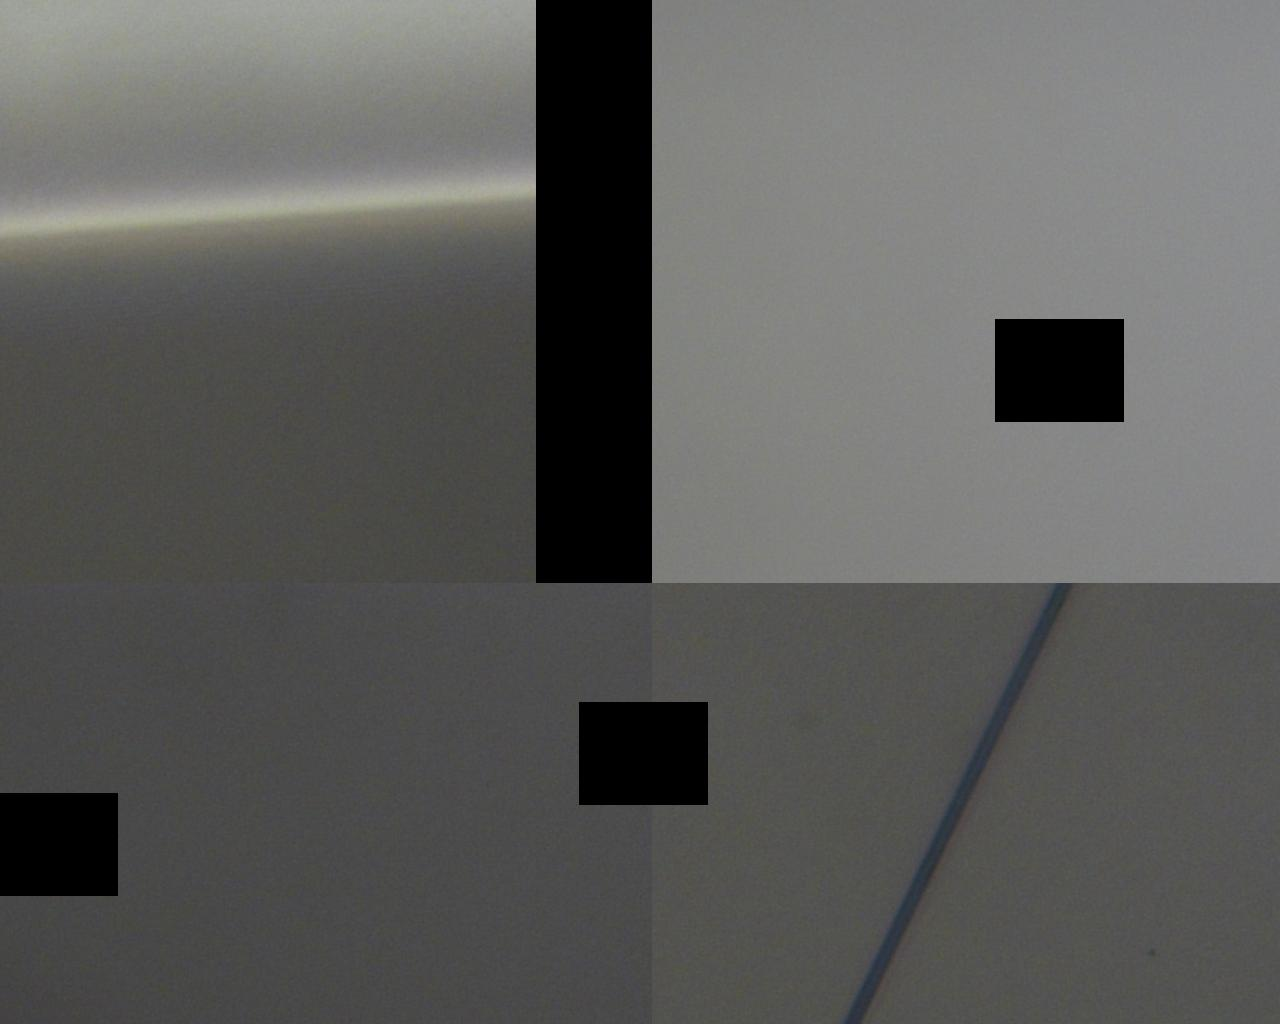fiber: (454, 0, 683, 624), (180, 939, 755, 1024)
